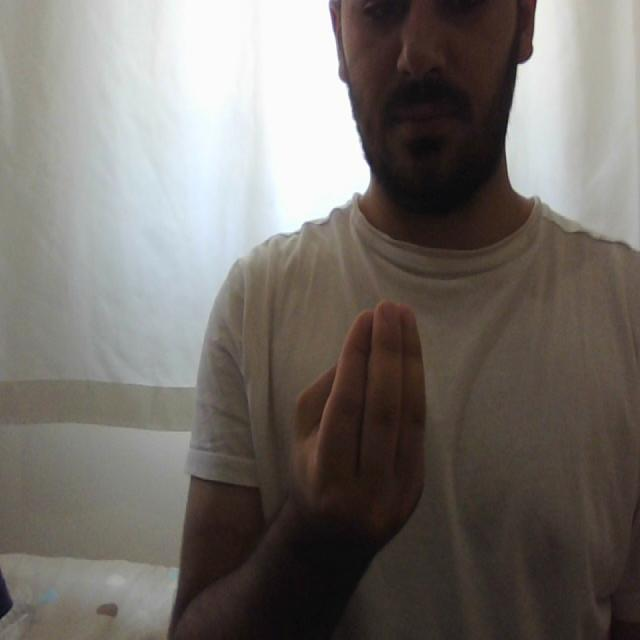iyi: (287, 295, 432, 532)
